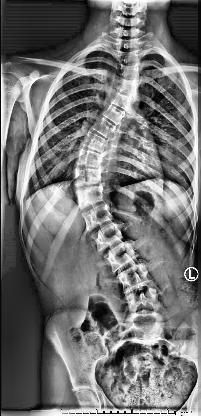Vertebrae: (104, 242, 140, 272), (127, 312, 163, 338), (92, 223, 126, 249), (82, 206, 116, 230), (128, 290, 164, 312), (120, 266, 150, 290), (75, 186, 107, 208), (76, 164, 102, 186), (96, 119, 120, 142), (82, 134, 108, 154), (76, 147, 100, 167), (118, 78, 142, 98), (117, 49, 143, 66), (106, 107, 128, 127), (115, 92, 137, 112), (119, 64, 141, 80)
